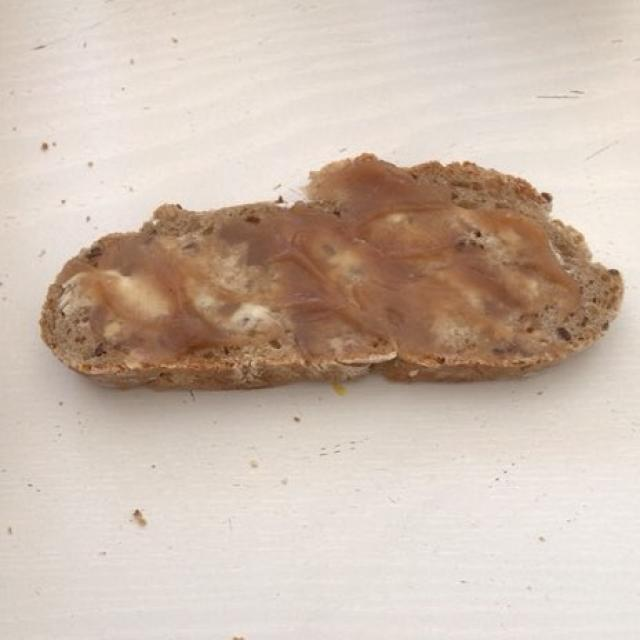bread-wholemeal: (45, 159, 614, 387)
butter: (95, 212, 529, 339)
